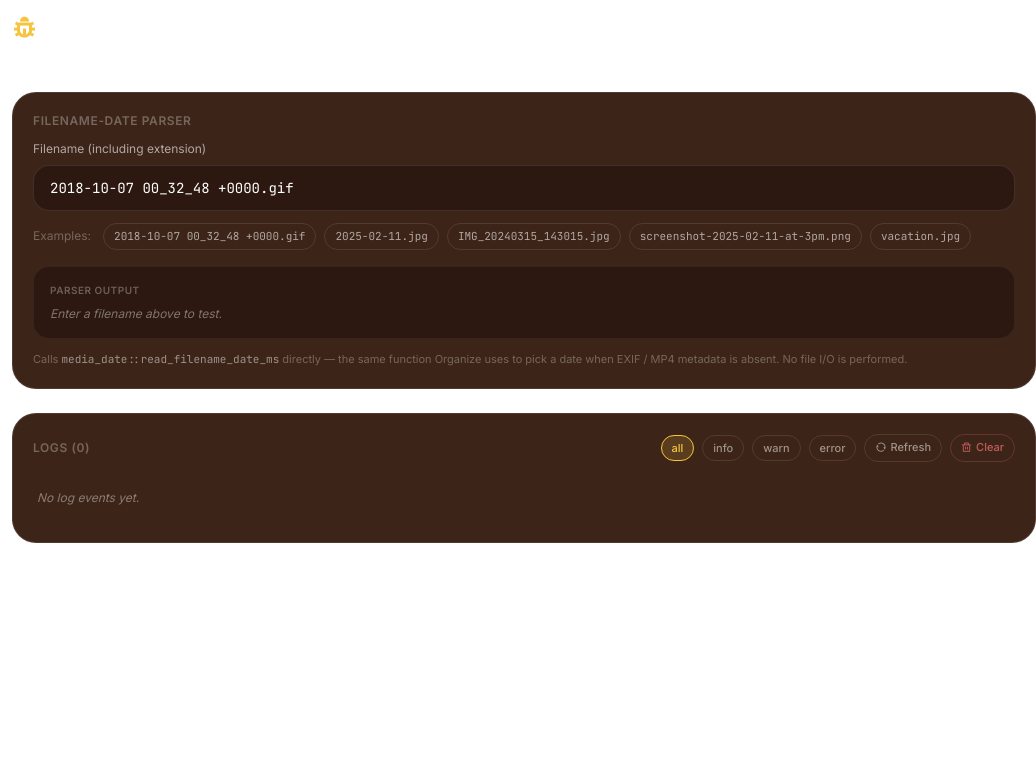
DebugView — filename-date parser tester › shows "null (no date found)" when the parser returns no match
Replace the text in the field labelled "Filename (including extension)" with "vacation.jpg". click: [524, 188]
box: left=33, top=165, right=1015, bottom=211
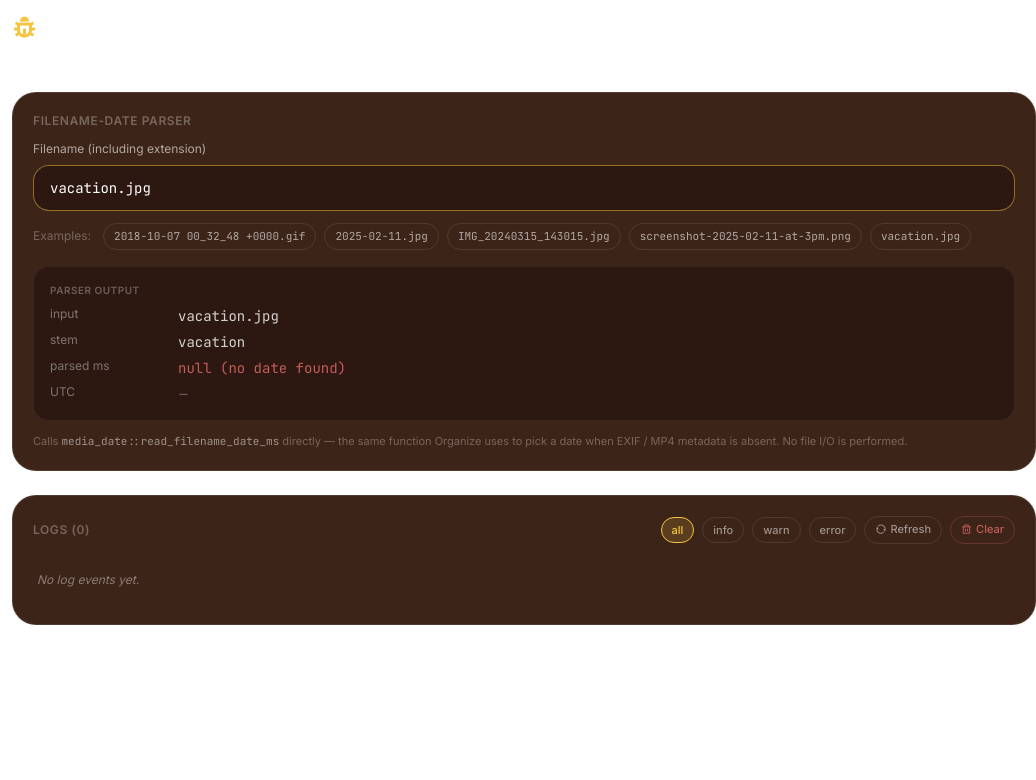
Now the text "null (no date found)" is shown, box left=178, top=358, right=346, bottom=376
